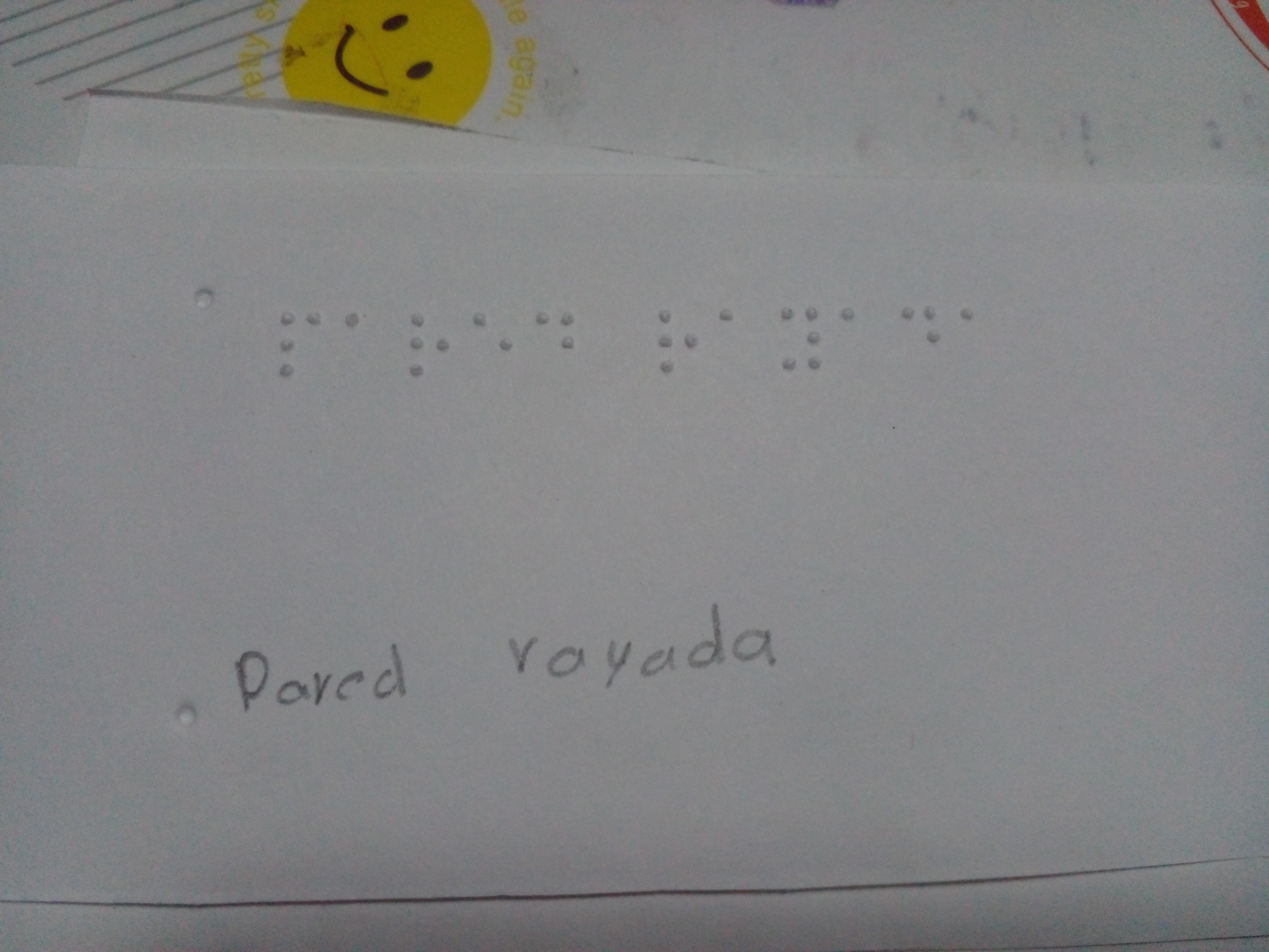a: (341, 310, 378, 356), (948, 294, 990, 330), (713, 301, 748, 339), (835, 298, 864, 336)
d: (531, 305, 584, 358), (900, 299, 945, 352)
e: (469, 304, 519, 369)
p: (279, 299, 325, 383)
r: (406, 304, 449, 387), (652, 304, 703, 372)
y: (771, 293, 829, 384)
